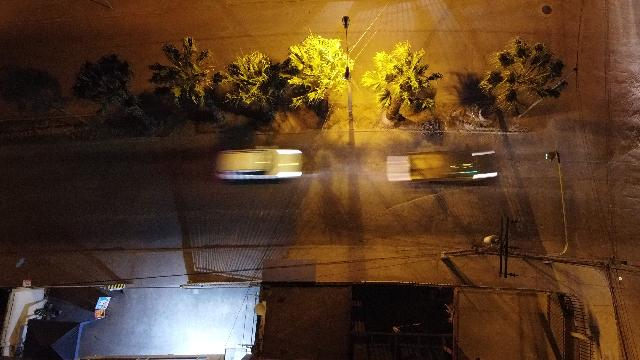Vehiculo: (386, 150, 498, 186), (214, 147, 302, 183)
